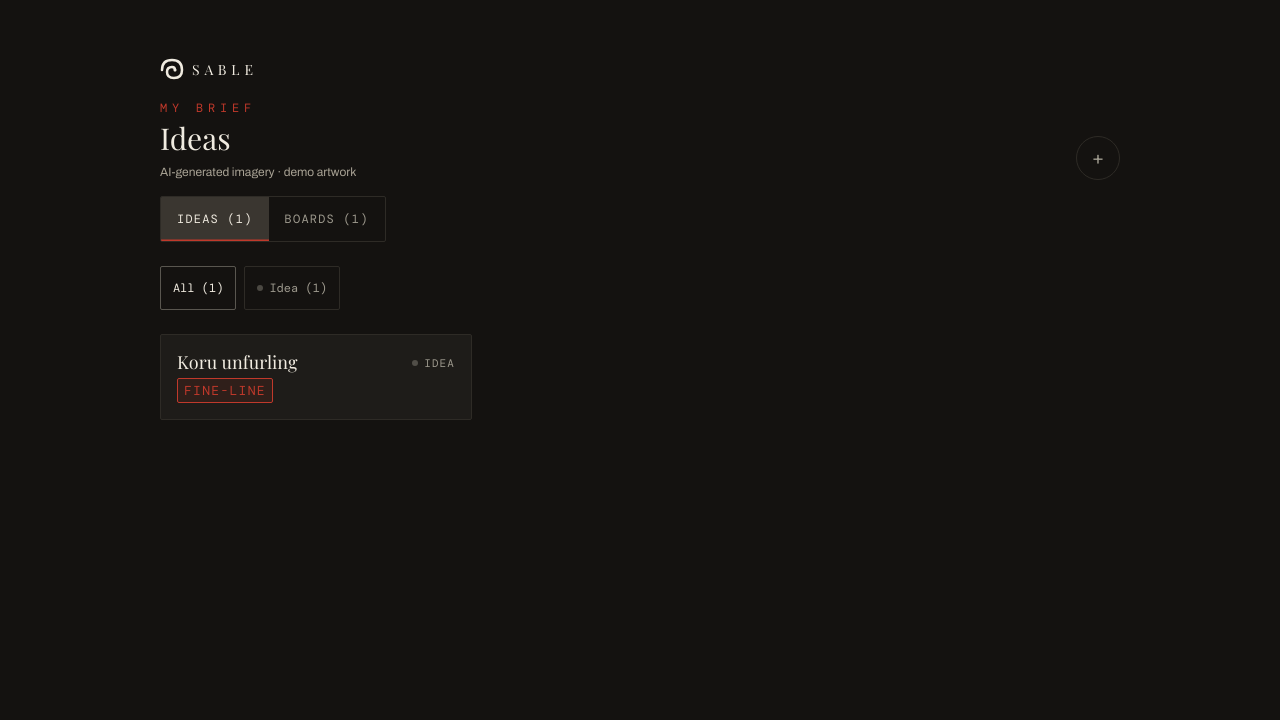
Test: Brief Ideas | Boards tabs › shows the generated-art notice inside an idea editor with a demo reference
This screenshot has width=1280, height=720.
Click the heading "Koru unfurling" at (237, 362), box [177,351,297,374]
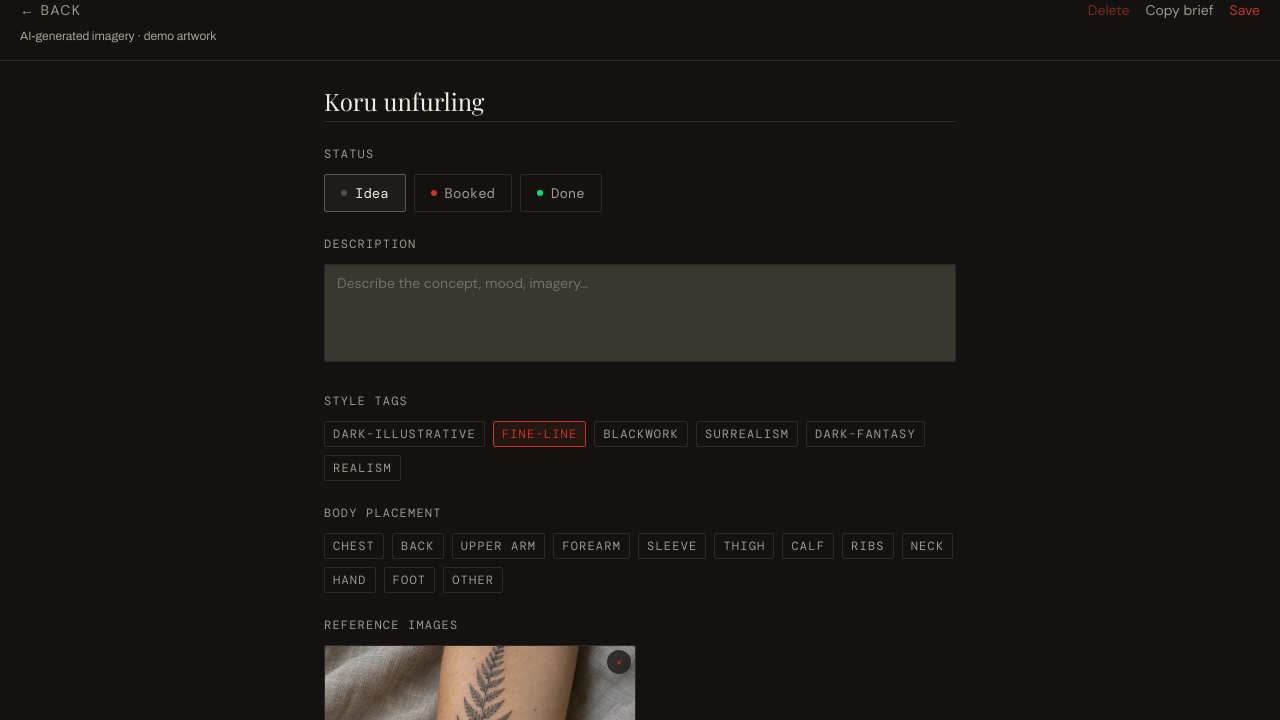
Expected: the text "AI-generated imagery · demo artwork" is shown, [20,29,216,43]
